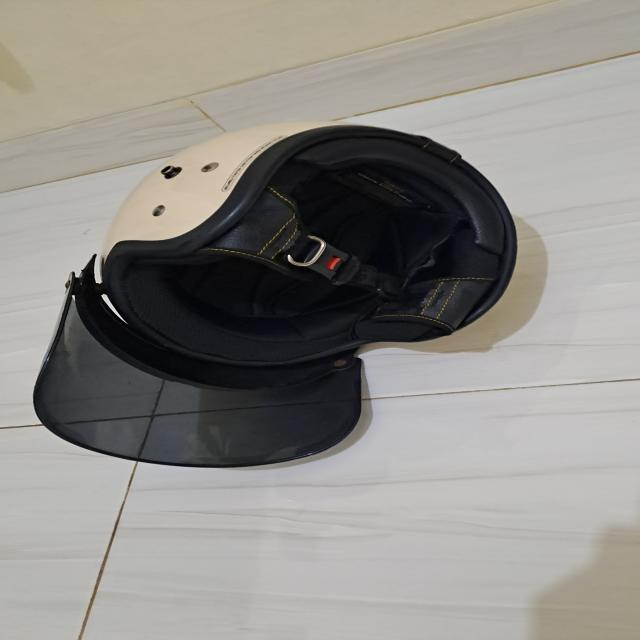Helm: (21, 119, 541, 475)
